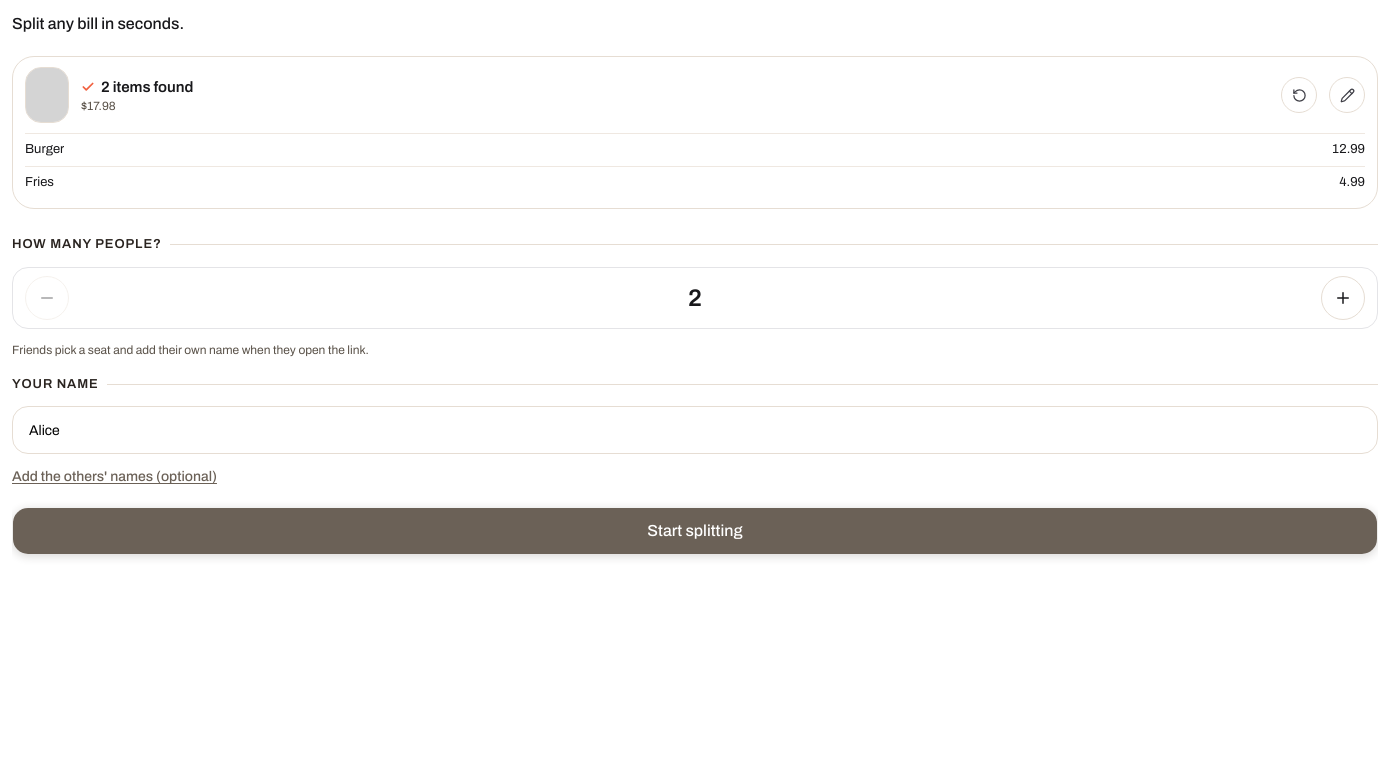
Test case: SetupStep — Continue creates session and navigates to /split/[sessionId] › failed createSession shows inline error and does NOT navigate
Click the button "Start splitting". click: (695, 531)
box: left=12, top=507, right=1378, bottom=555
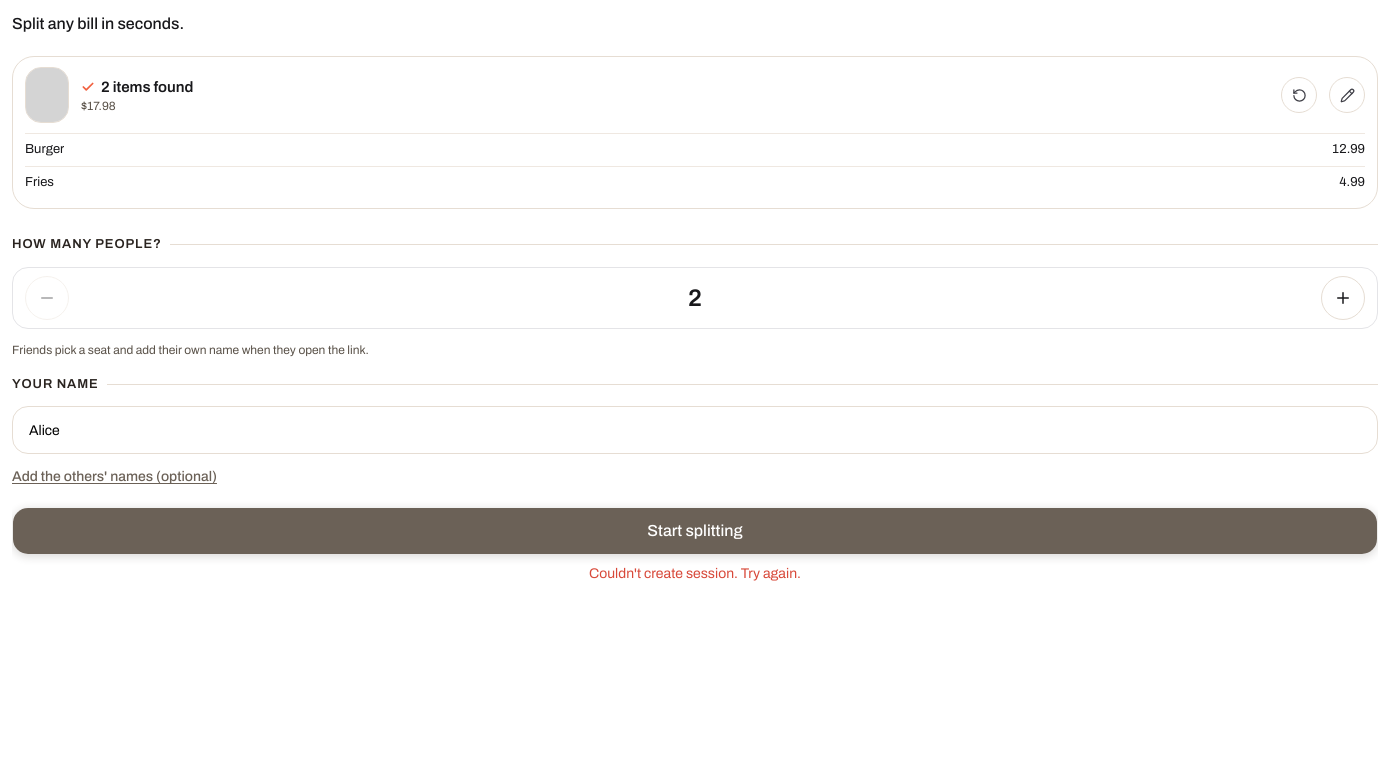
Check: the text "Couldn't create session. Try again." is shown, box left=589, top=566, right=801, bottom=581
